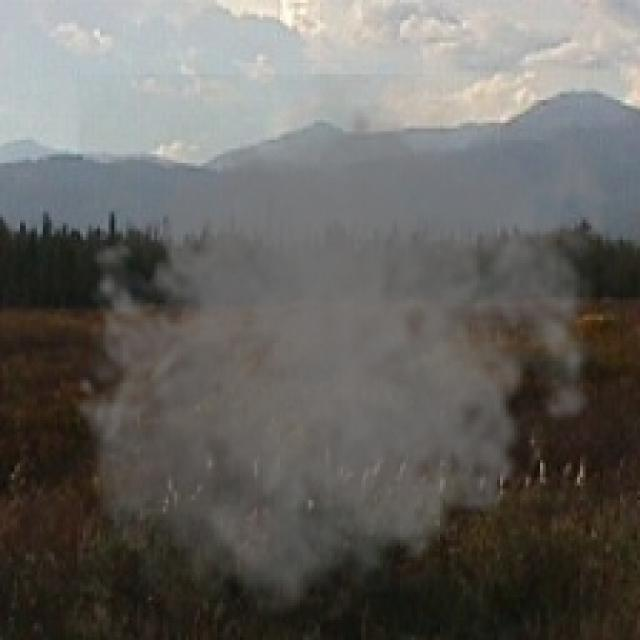Smoke: (65, 74, 626, 637)
